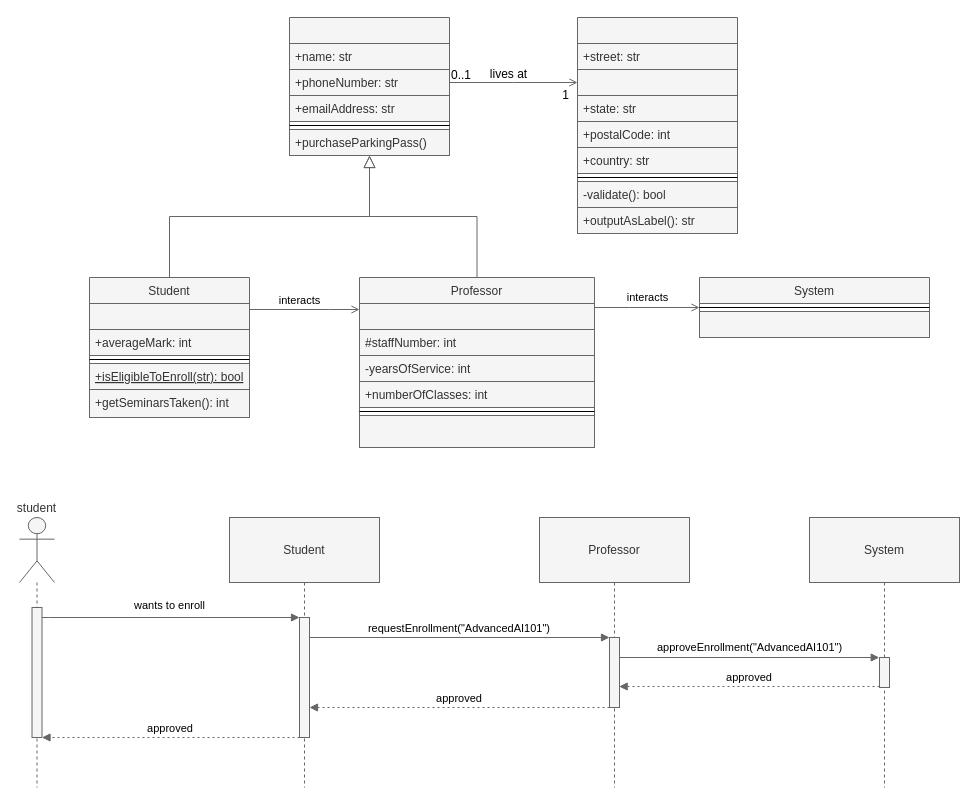
The diagram is 977 pixels wide and 805 high, and some of its shapes have lost their labels. Each missing label, with the box of its shape:
+approveEnrollment(course str): bool: (698, 310, 930, 338)
+city: str: (576, 68, 738, 96)
+requestEnrollment(course str): bool: (358, 414, 594, 448)
+studentNumber: int: (88, 302, 250, 330)
/salary: int: (358, 302, 594, 330)
Address: (576, 16, 738, 234)
Person: (288, 16, 450, 156)
